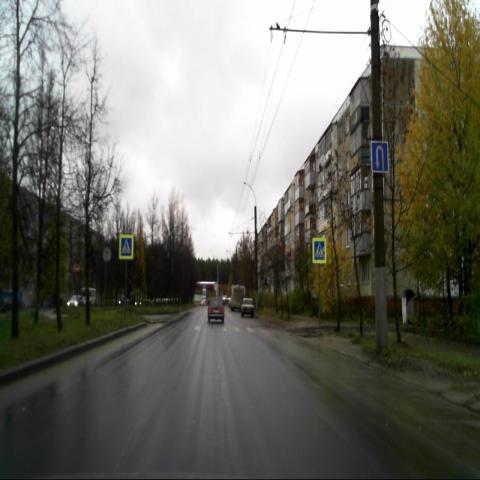6_3_1: (370, 141, 388, 174)
